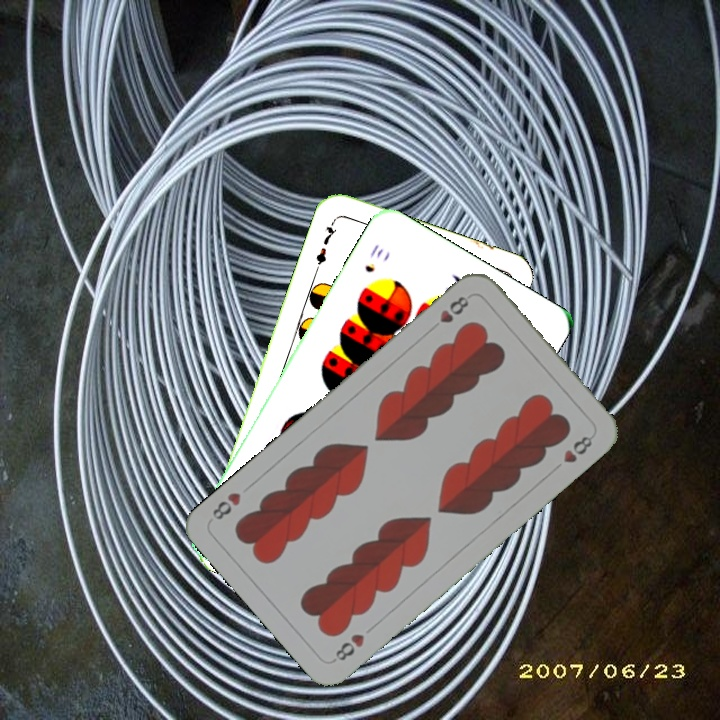E7: (311, 216, 340, 273)
H8: (328, 629, 367, 665), (435, 292, 472, 326)
S10: (360, 240, 386, 276)
